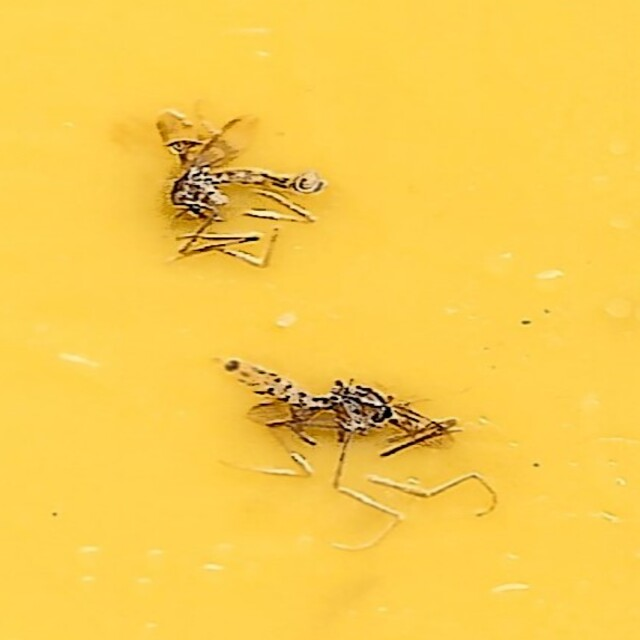Nematocera: (215, 356, 490, 529), (150, 111, 332, 274)
